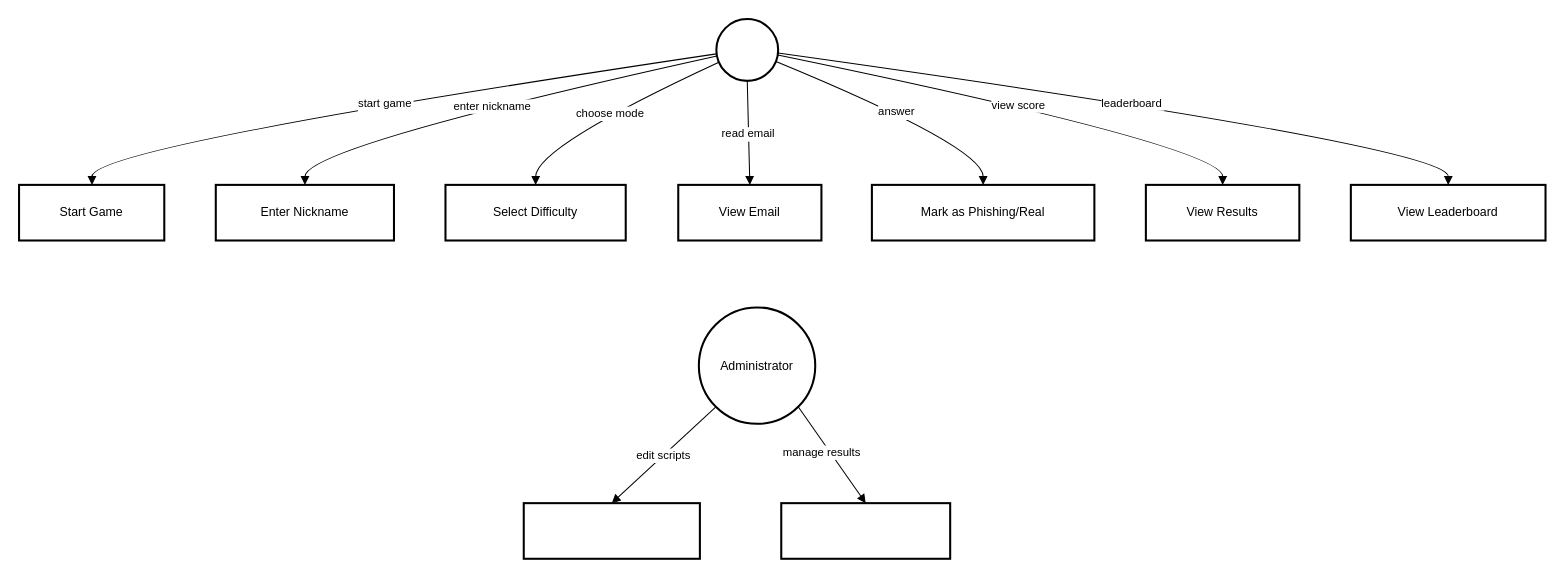
Image size: 1564x577. Some labels were removed from this diagram. The shapes that lost their labels are listed below. From the top down, each one's box as (x1, y1, x2, y2) in pixels, then its label:
(715, 18, 779, 81): Player
(522, 502, 700, 559): Edit Email Data
(780, 502, 951, 559): Manage Scores
